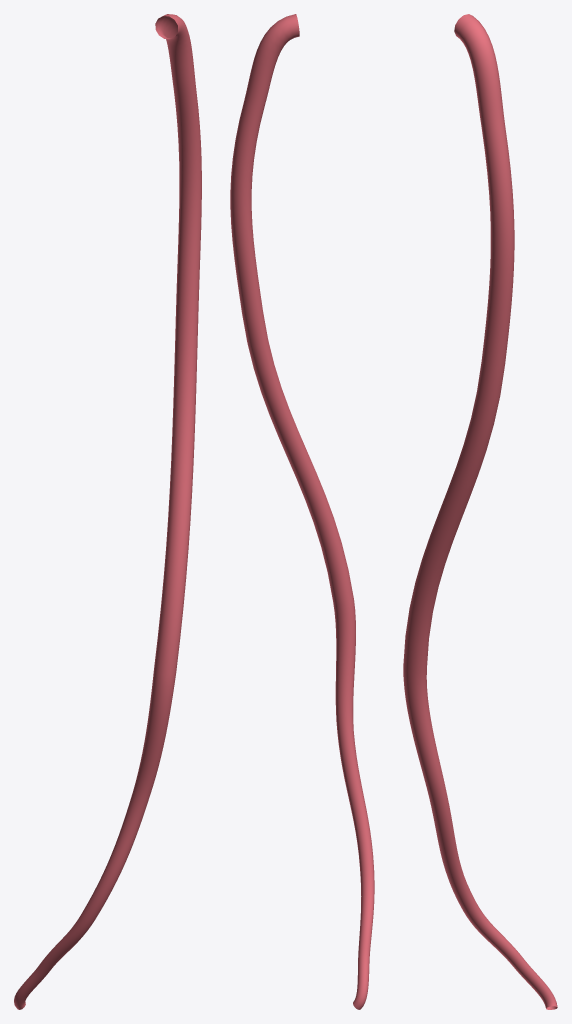
The picture shows the model from 3 angles, left to right: view 1: azimuth 30°, elevation 25°; view 2: azimuth 150°, elevation 25°; view 3: azimuth 270°, elevation 25°; orthographic projection. The views are drawn at different scales.
Visible parts, largest first — view 1: ZA_a730a02b65be6b68; view 2: ZA_a730a02b65be6b68; view 3: ZA_a730a02b65be6b68.
Part boxes in pixels (x1,y1,x2,y2): ZA_a730a02b65be6b68: (14,14,201,1009); ZA_a730a02b65be6b68: (230,14,374,1009); ZA_a730a02b65be6b68: (403,14,557,1009).
Size of the model in its own units: 0.0302 by 0.1757 by 0.0234.
